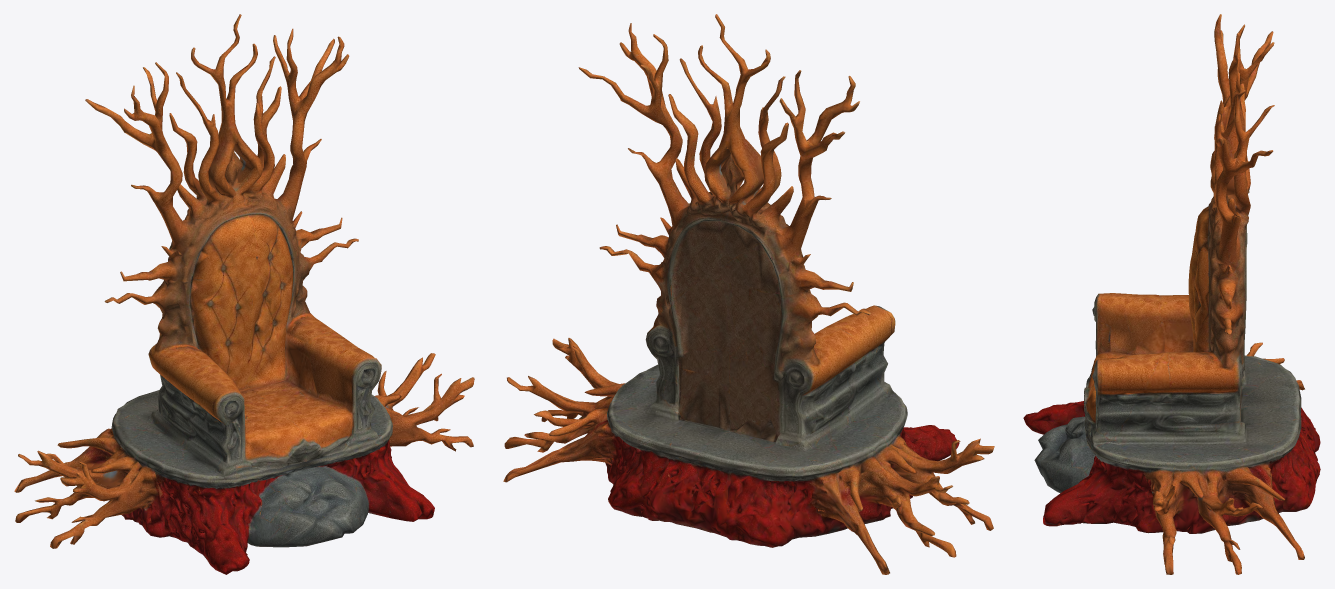
The model's file is coral-throne.glb.
The picture shows the model from 3 angles, left to right: view 1: azimuth 30°, elevation 25°; view 2: azimuth 150°, elevation 25°; view 3: azimuth 270°, elevation 25°; orthographic projection. The views are drawn at different scales.
Size of the model in its own units: 1.85 by 1.9 by 1.15.
1 material, 1 textured.
